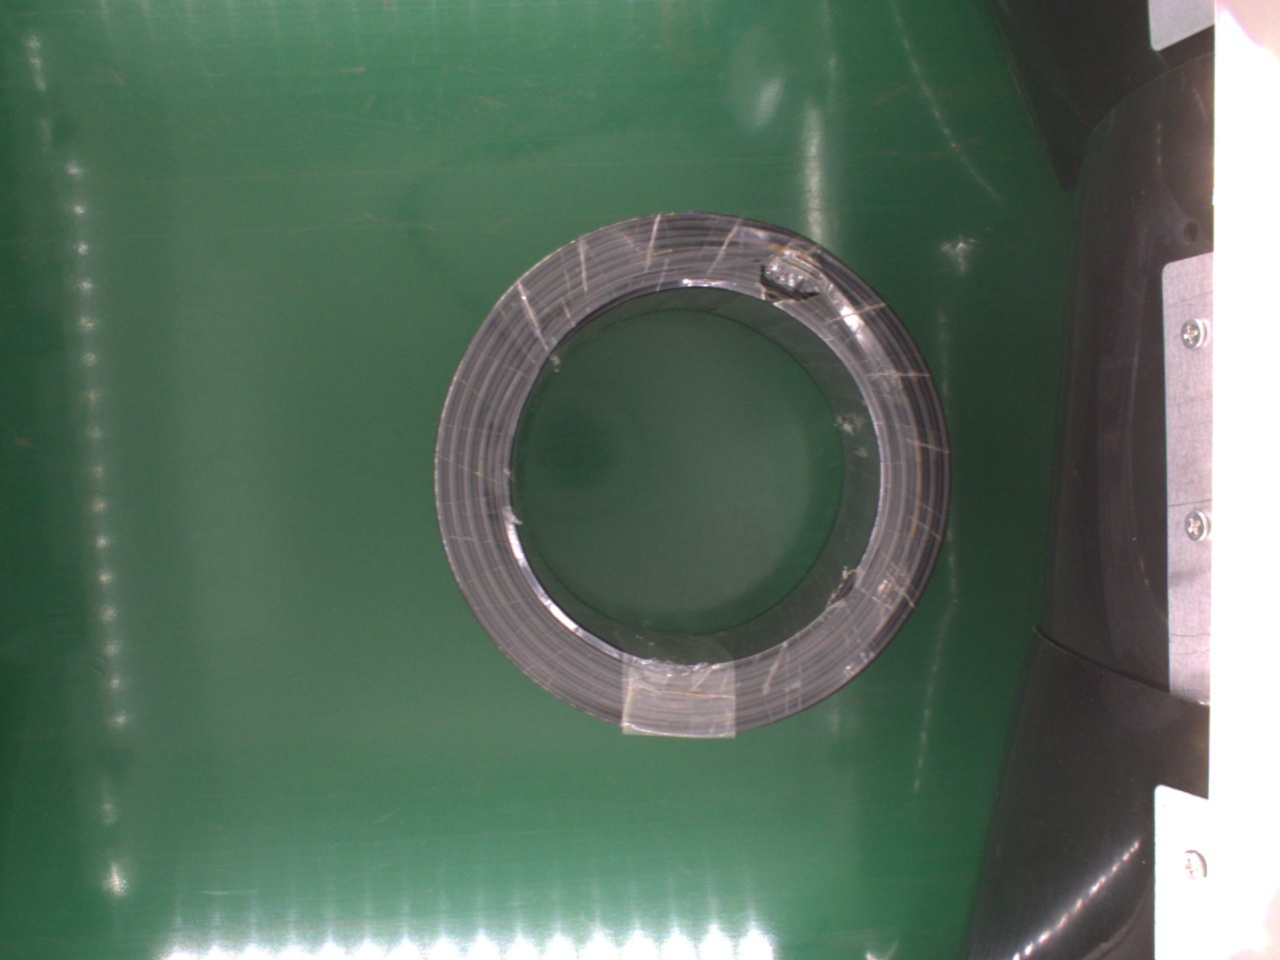black: (432, 214, 954, 730)
